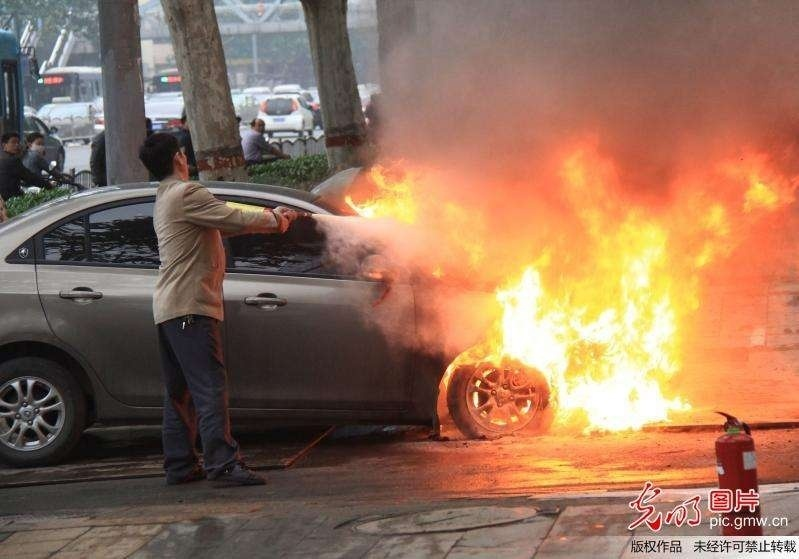fire: (349, 133, 723, 436)
